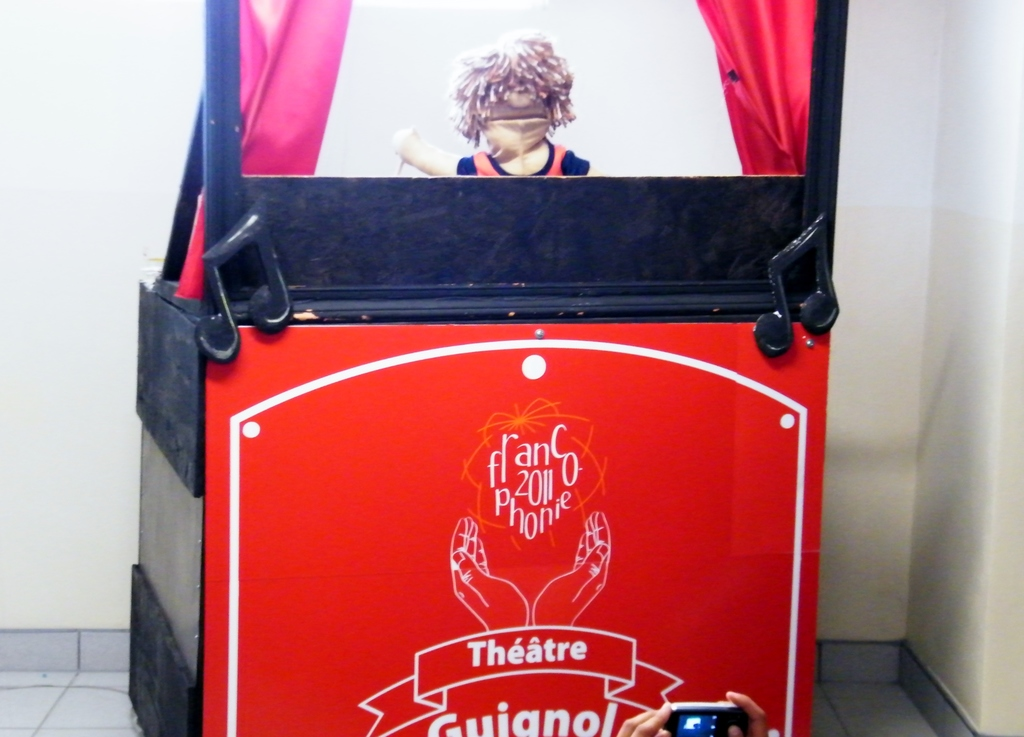Person: (391, 31, 590, 175)
